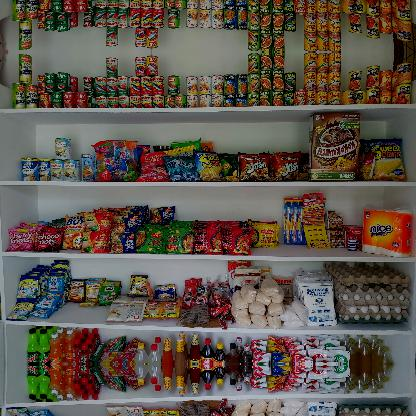Koko-Krunch: (308, 113, 360, 181)
